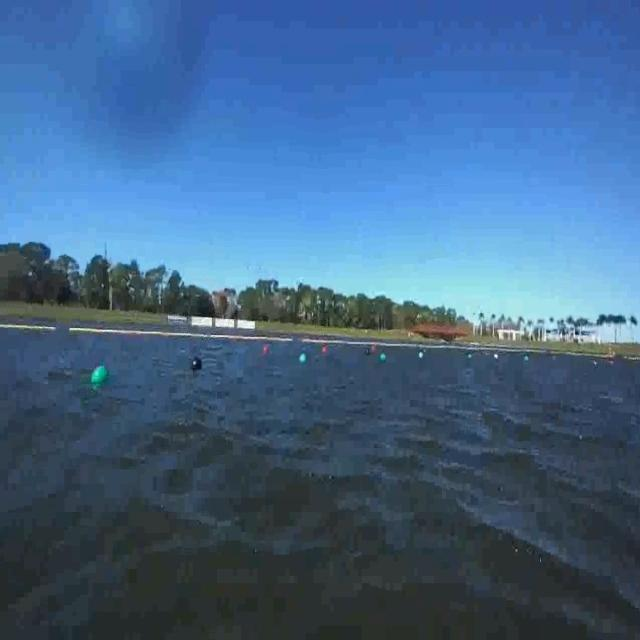black-buoy: (188, 356, 203, 374)
green-buoy: (90, 365, 108, 385), (298, 352, 306, 364)
